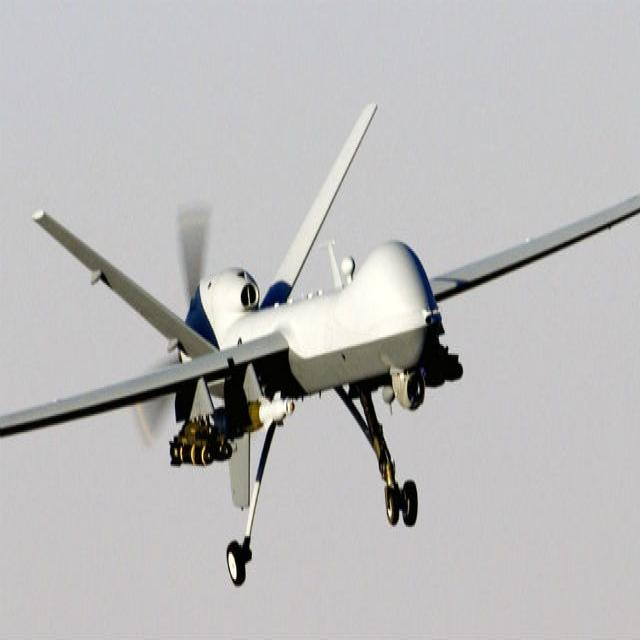MQ9: (1, 90, 640, 613)
